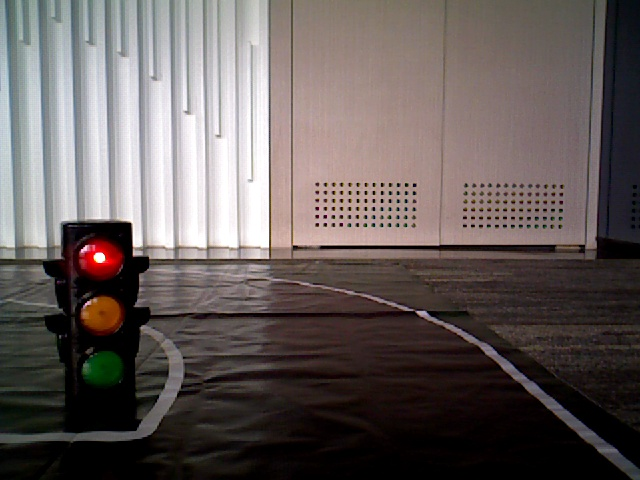red: (67, 225, 135, 387)
